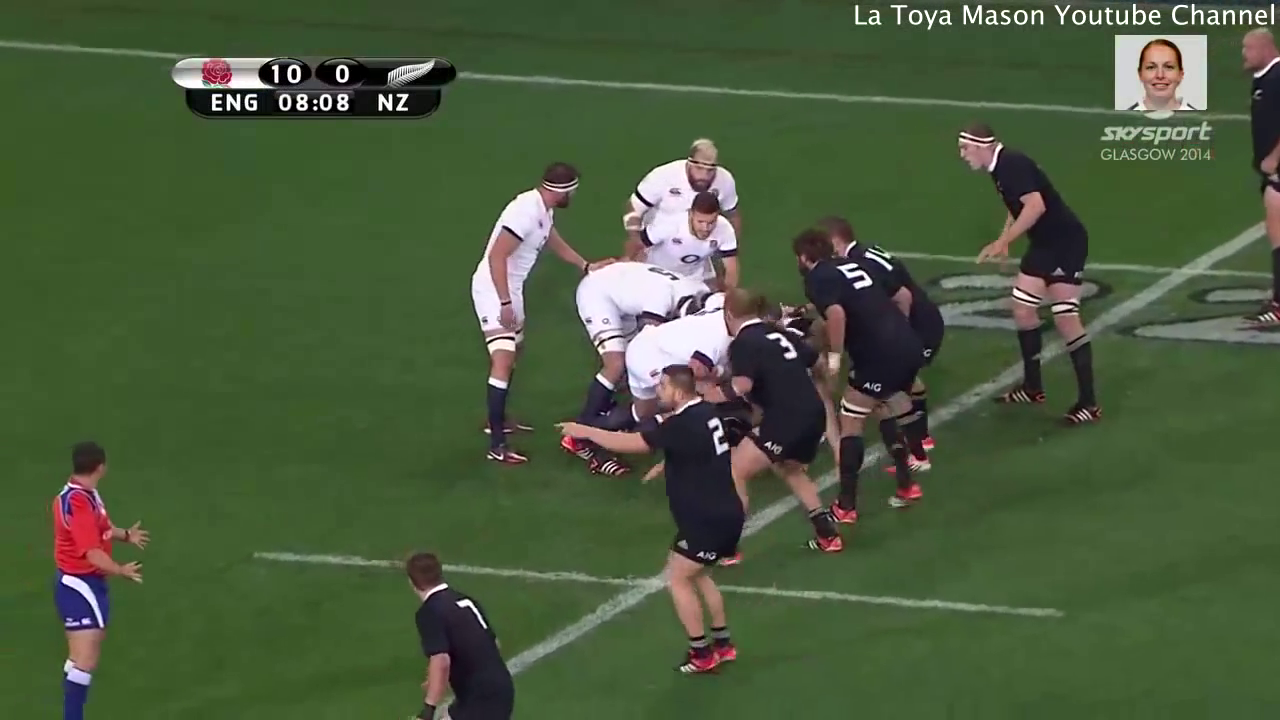player: (545, 361, 751, 681), (939, 118, 1117, 430), (461, 152, 604, 484), (695, 282, 846, 572), (787, 229, 930, 531), (25, 431, 164, 720), (814, 196, 946, 468), (380, 540, 530, 720), (565, 240, 697, 393), (608, 279, 742, 426), (617, 179, 765, 290), (1229, 17, 1280, 335), (609, 135, 758, 229)
